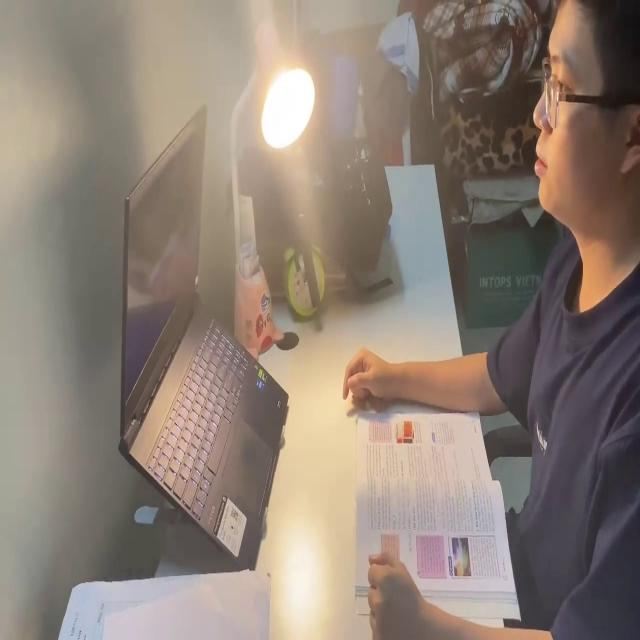book: (351, 386, 520, 619), (48, 570, 271, 640)
laptop: (111, 99, 292, 574)
student: (345, 0, 640, 640)
